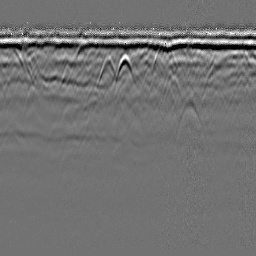cavity: (115, 51, 136, 86)
